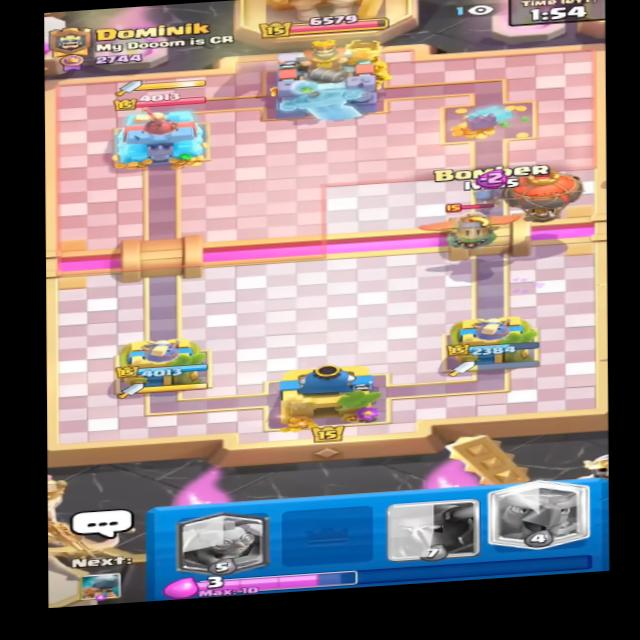balloon: (502, 166, 586, 226)
inferno-dragon: (429, 197, 515, 251)
